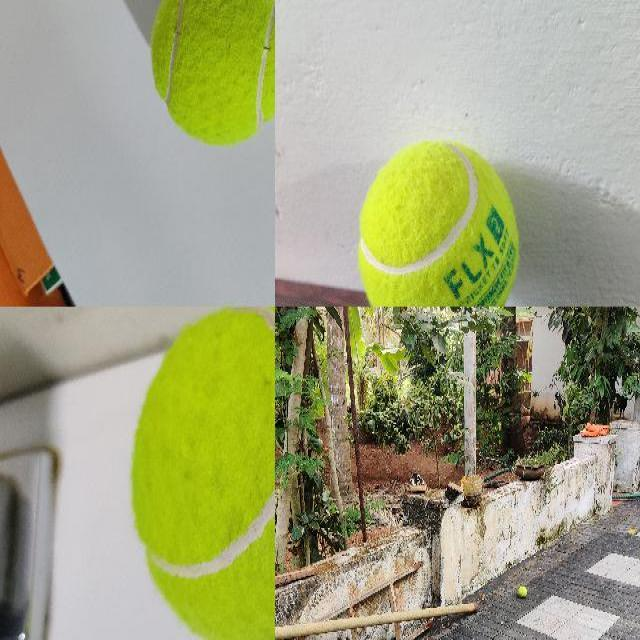tennis-ball: (128, 307, 274, 639), (357, 139, 520, 305), (149, 0, 274, 148), (518, 585, 527, 597)
